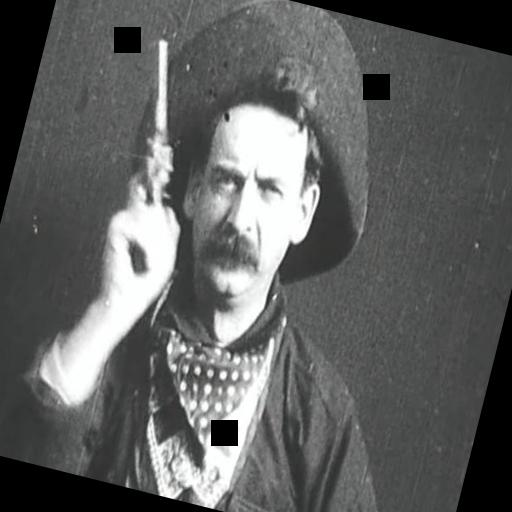Handgun: (92, 36, 210, 280)
